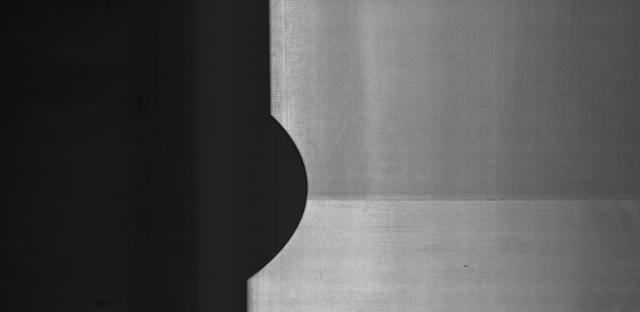crescent_gap: (225, 106, 320, 288)
welding_line: (331, 194, 640, 218)
